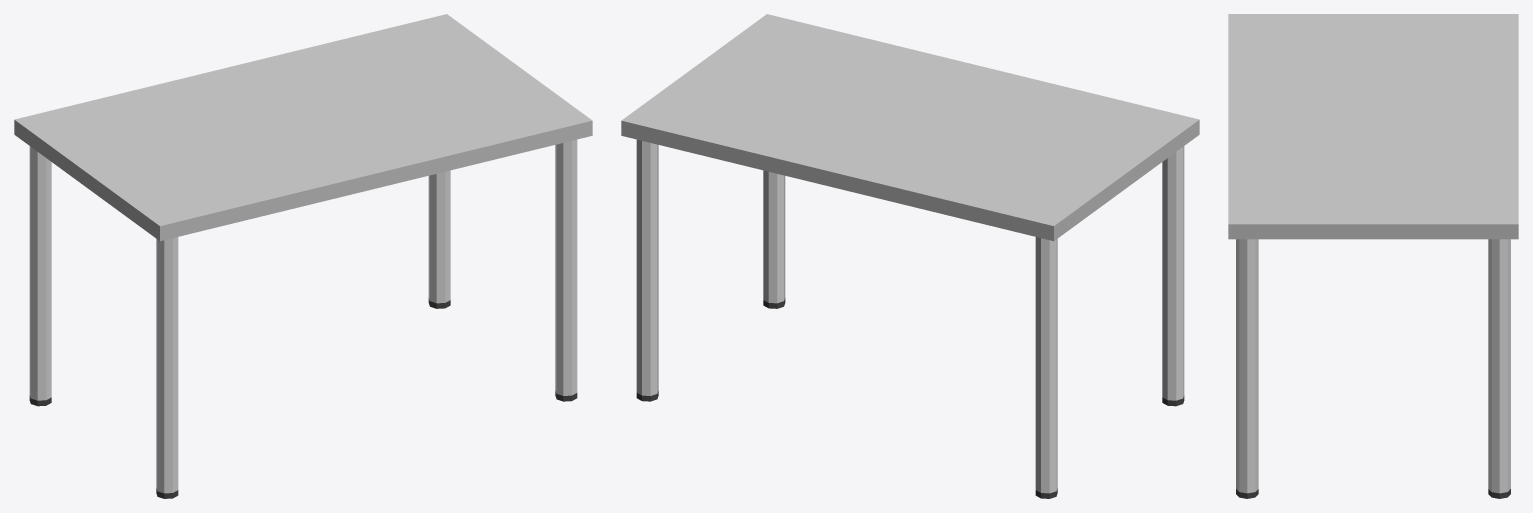
The model's file is PC_Table1_C1.fbx.
3 renders of one model, left to right at view 1: azimuth 30°, elevation 25°; view 2: azimuth 150°, elevation 25°; view 3: azimuth 270°, elevation 25°, orthographic.
Visible parts, largest first — view 1: PC_Table1_C1; view 2: PC_Table1_C1; view 3: PC_Table1_C1.
Boxes of the visible parts, box(x1,y1,x2,y2) form: PC_Table1_C1: box(14, 14, 592, 498); PC_Table1_C1: box(621, 14, 1199, 498); PC_Table1_C1: box(1228, 14, 1518, 498).
Bounding box in the file's own units: 120 × 74 × 70.
